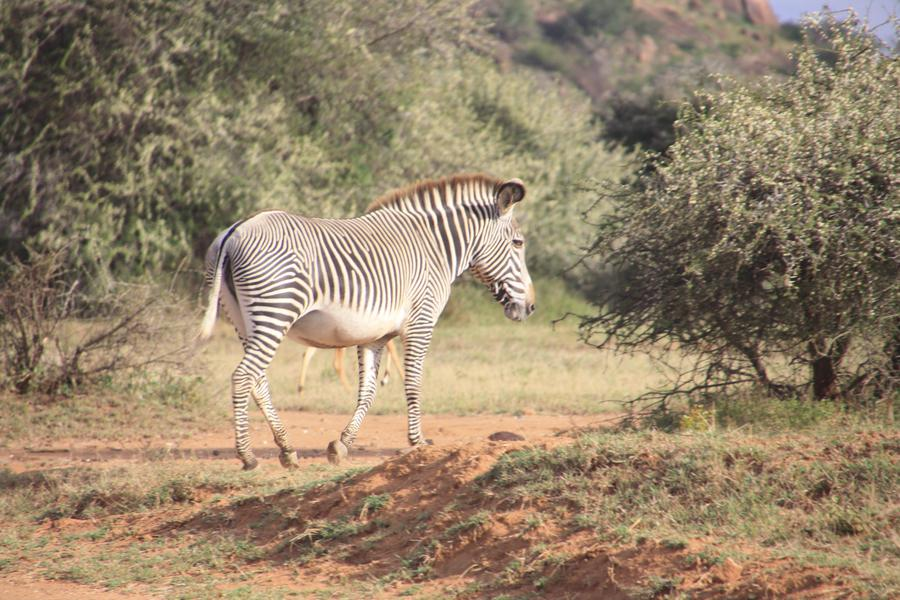zebra_grevys: (213, 200, 440, 321)
